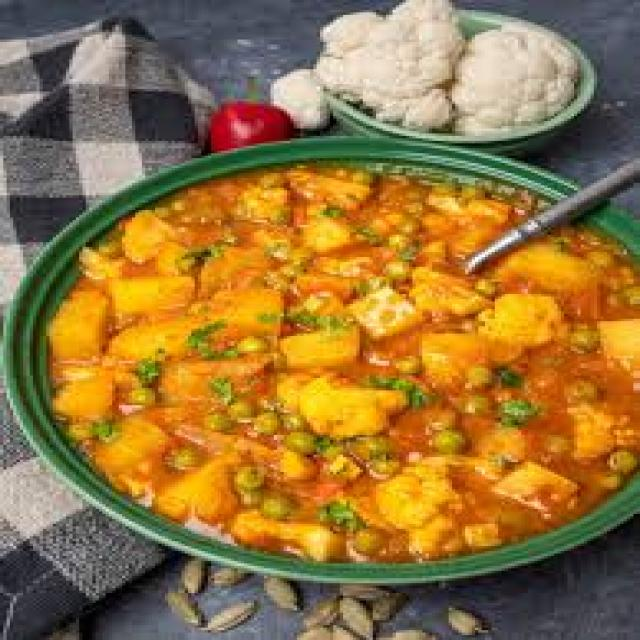Aloo Gobi: (121, 171, 511, 535)
